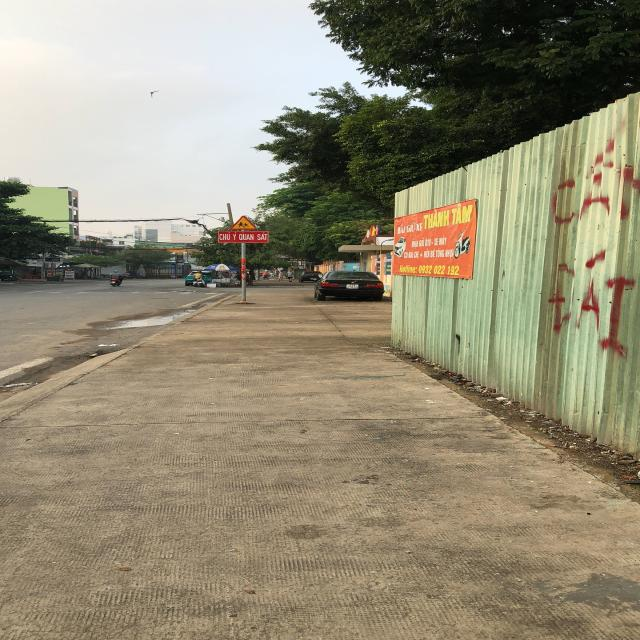Bien bao tre em: (226, 215, 259, 230)
